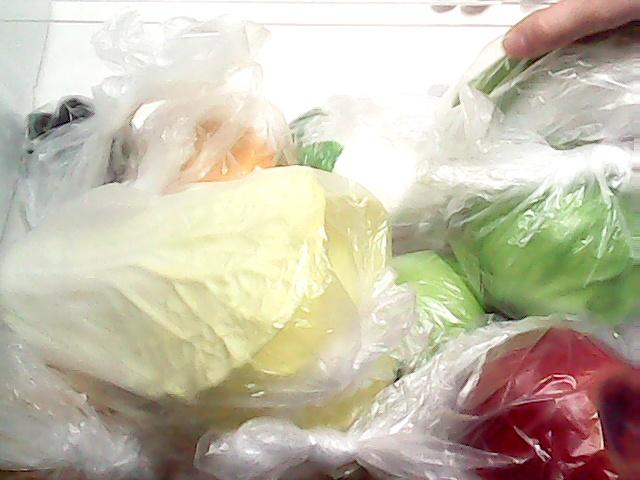apple: (428, 321, 640, 479), (381, 247, 487, 405)
cabbage: (440, 147, 640, 329)
grape: (0, 57, 156, 197)
lemon: (136, 87, 280, 185)
napa cabbage: (1, 155, 383, 417)
pepper: (442, 15, 640, 118)
potato: (0, 362, 124, 478)
radish: (282, 96, 458, 228)
